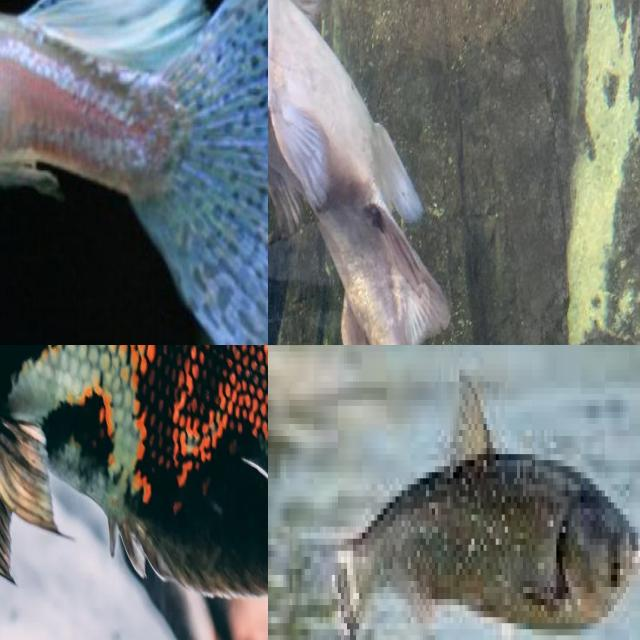fish: (0, 0, 268, 345), (268, 0, 506, 345), (383, 345, 640, 640), (51, 345, 191, 640)
